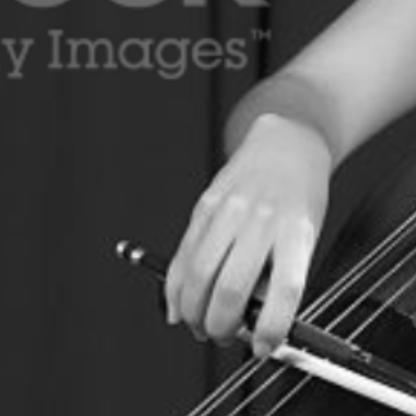good: (169, 110, 355, 367)
